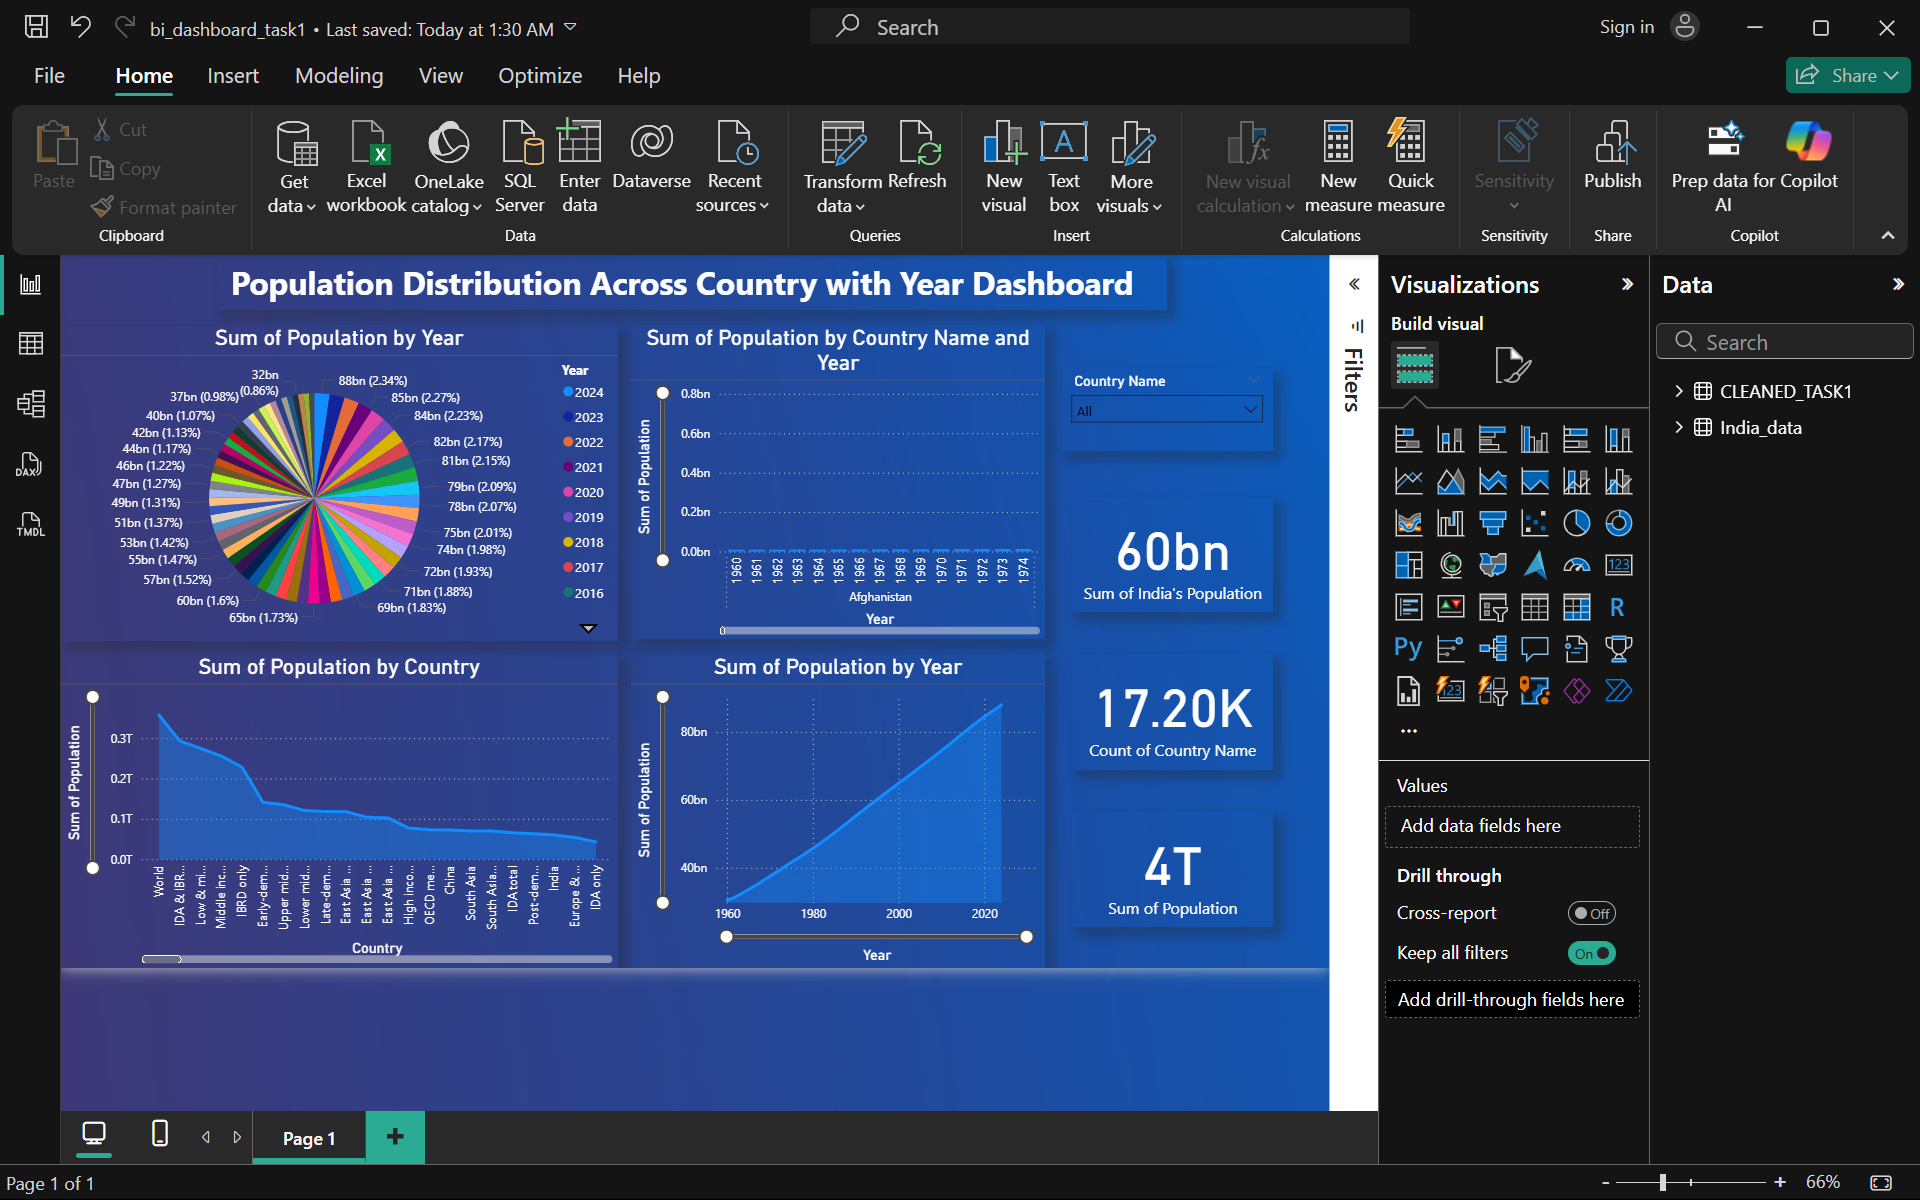

The page's visual inventory and layout, read from the dashboard file:
{"tool":"powerbi","page":{"name":"Page 1","canvas":[1280,720],"ordinal":0},"visuals":[{"type":"textbox","box":[157.5,0,958.5,56],"z":0},{"type":"areaChart","fields":{"Category":["CLEANED_TASK1.Country Name"],"Y":["Sum(CLEANED_TASK1.Population)"]},"box":[0,402.8,561.8,316.5],"z":1000},{"type":"card","fields":{"Values":["Sum(CLEANED_TASK1.Population)"]},"box":[1020.6,561.8,202.9,116.6],"z":2000},{"type":"card","fields":{"Values":["CountNonNull(CLEANED_TASK1.Country Name)"]},"box":[1020.6,402.8,202.9,116.6],"z":3000},{"type":"areaChart","fields":{"Category":["CLEANED_TASK1.Year"],"Y":["Sum(CLEANED_TASK1.Population)"]},"box":[575.4,402.8,417.9,316.5],"z":4000},{"type":"pieChart","fields":{"Category":["CLEANED_TASK1.Year"],"Y":["Sum(CLEANED_TASK1.Population)"]},"box":[0,71.2,561.8,318],"z":5000},{"type":"card","fields":{"Values":["Sum(India_data.Population)"]},"box":[1020.6,243.8,202.9,116.6],"z":6001},{"type":"slicer","fields":{"Values":["CLEANED_TASK1.Country Name"]},"box":[1010,113.6,213.5,84.8],"z":6002},{"type":"clusteredColumnChart","fields":{"Category":["CLEANED_TASK1.Country Name","CLEANED_TASK1.Year"],"Y":["Sum(CLEANED_TASK1.Population)"]},"box":[575.4,71.2,417.9,316.5],"z":6003}]}

Visuals, with their boxes on the page's 1280x720 design canvas (x1, y1, x2, y2). These are canvas units, not pixel positions in the 1920x1200 screenshot, which may show the page scaled, cropped or inside an application window:
textbox: <region>158, 0, 1116, 56</region>
areaChart - CLEANED_TASK1.Country Name x Sum(CLEANED_TASK1.Population): <region>0, 403, 562, 719</region>
card - Sum(CLEANED_TASK1.Population): <region>1021, 562, 1224, 678</region>
card - CountNonNull(CLEANED_TASK1.Country Name): <region>1021, 403, 1224, 519</region>
areaChart - CLEANED_TASK1.Year x Sum(CLEANED_TASK1.Population): <region>575, 403, 993, 719</region>
pieChart - CLEANED_TASK1.Year x Sum(CLEANED_TASK1.Population): <region>0, 71, 562, 389</region>
card - Sum(India_data.Population): <region>1021, 244, 1224, 360</region>
slicer - CLEANED_TASK1.Country Name: <region>1010, 114, 1224, 198</region>
clusteredColumnChart - CLEANED_TASK1.Country Name x CLEANED_TASK1.Year: <region>575, 71, 993, 388</region>
